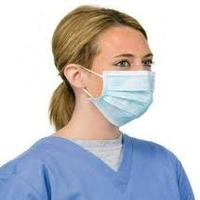flu mask: (89, 70, 160, 130)
